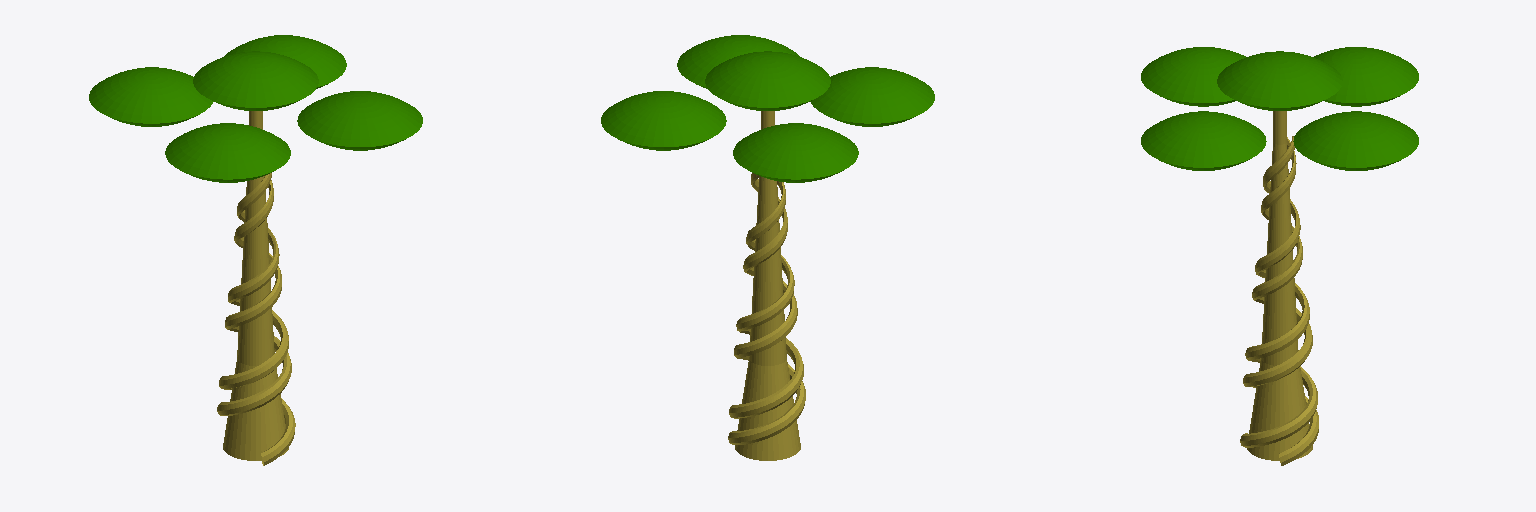
3 renders of one model, left to right at view 1: azimuth 30°, elevation 25°; view 2: azimuth 150°, elevation 25°; view 3: azimuth 270°, elevation 25°, orthographic.
Parts seen in each view (by area): view 1: Leaves, Tree, Vines; view 2: Leaves, Tree, Vines; view 3: Leaves, Tree, Vines.
Part boxes in pixels (bbox=[...]): Leaves: bbox=[89, 35, 422, 182]; Tree: bbox=[223, 111, 288, 460]; Vines: bbox=[217, 173, 295, 465]; Leaves: bbox=[601, 35, 934, 182]; Tree: bbox=[735, 111, 800, 460]; Vines: bbox=[728, 173, 805, 444]; Leaves: bbox=[1141, 47, 1418, 170]; Tree: bbox=[1247, 111, 1312, 460]; Vines: bbox=[1240, 136, 1318, 465].
Size of the model in its own units: 76.65 by 119 by 76.65.
2 materials, 2 textured.